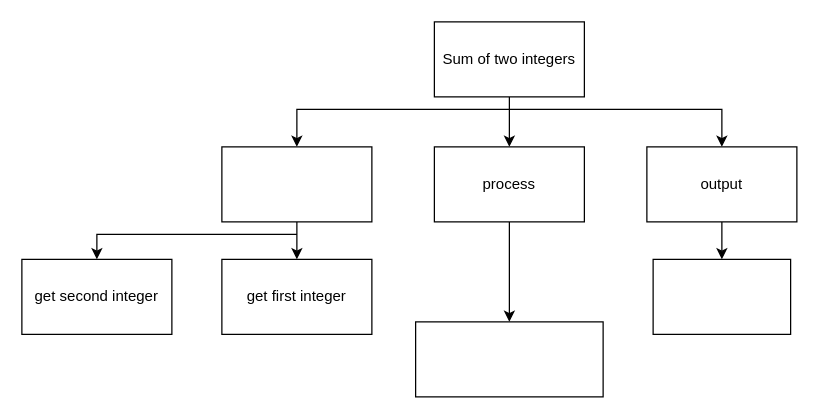
Image size: 819x419. Some labels were removed from this diagram. Each missing label, with the box of its shape:
input: (221, 146, 372, 222)
show sum: (652, 258, 791, 334)
sum of integers = first integer + second integer: (414, 321, 603, 397)
